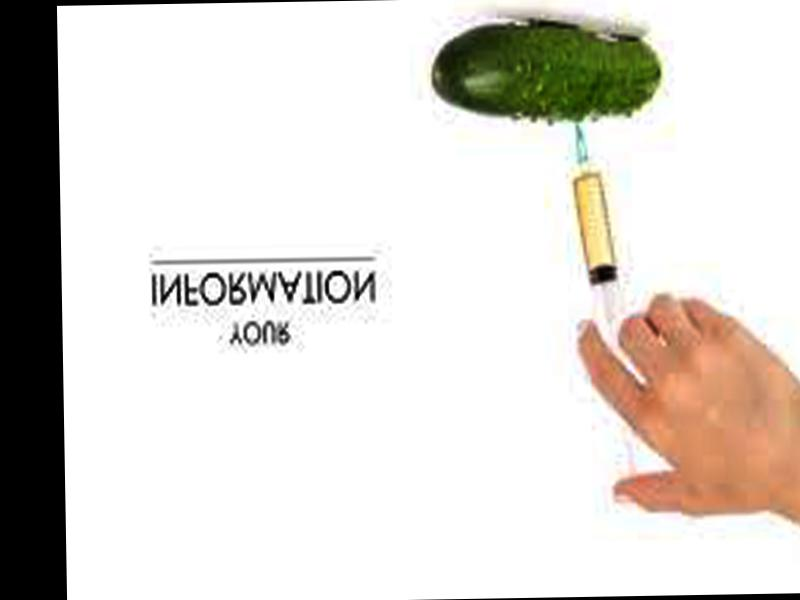Cucumber: (431, 26, 664, 123)
